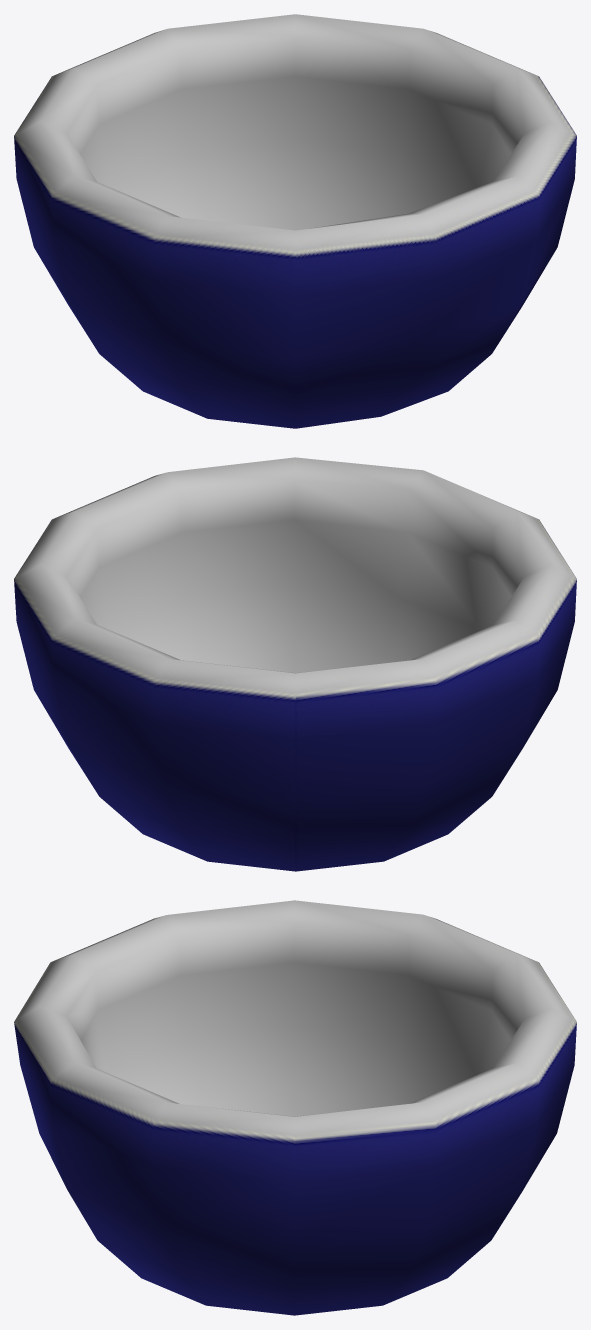
File: frl_apartment_bowl_03.glb
The picture shows the model from 3 angles, top to bottom: view 1: azimuth 30°, elevation 25°; view 2: azimuth 150°, elevation 25°; view 3: azimuth 270°, elevation 25°; orthographic projection.
Visible parts, largest first — view 1: frl_apartment_bowl_03; view 2: frl_apartment_bowl_03; view 3: frl_apartment_bowl_03.
Part boxes in pixels (left/top/right/bottom): frl_apartment_bowl_03: left=14, top=14, right=576, bottom=428; frl_apartment_bowl_03: left=14, top=457, right=576, bottom=871; frl_apartment_bowl_03: left=14, top=900, right=576, bottom=1315.
Size of the model in its own units: 0.1892 by 0.1006 by 0.1888.
1 material, 1 textured.
